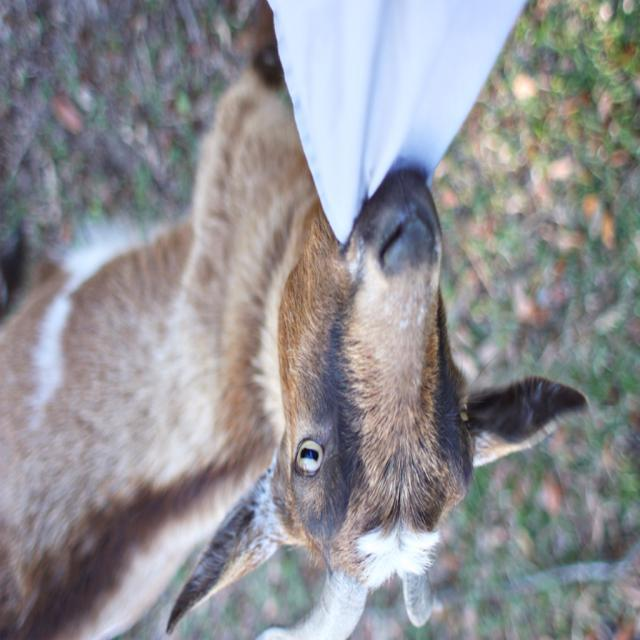Goat: (2, 55, 590, 640)
